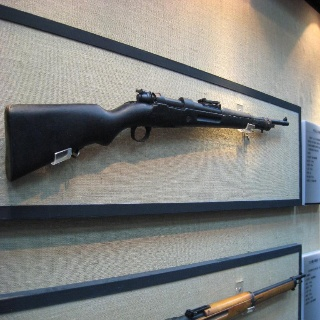rifle: (5, 74, 291, 181)
